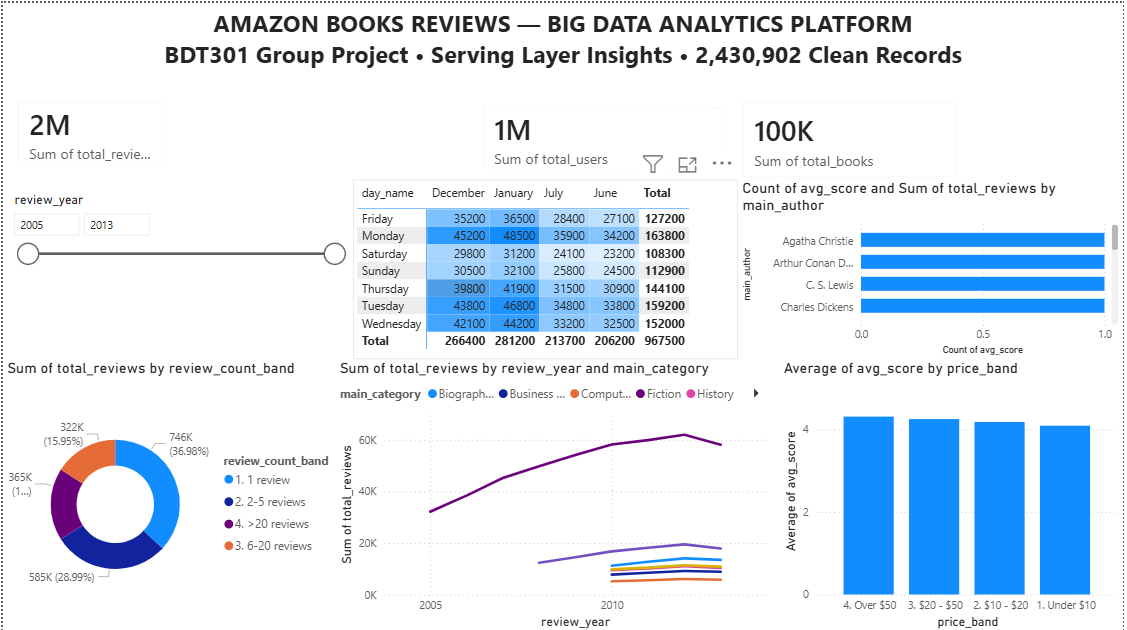

The dashboard page shown, as its layout file describes it:
{"tool":"powerbi","page":{"name":"Page 1","canvas":[1280,720],"ordinal":0},"visuals":[{"type":"donutChart","fields":{"Category":["public agg_reviewer_segment.review_count_band"],"Y":["Sum(public agg_reviewer_segment.total_reviews)"]},"box":[0,496.7,380.1,223.7],"z":0},{"type":"columnChart","fields":{"Category":["public agg_price_band.price_band"],"Y":["Avg(public agg_price_band.avg_score)"]},"box":[887.1,407.1,392.9,312.9],"z":1000},{"type":"lineChart","fields":{"Category":["public agg_category_year.review_year"],"Y":["Sum(public agg_category_year.total_reviews)"],"Series":["public agg_category_year.main_category"]},"box":[380,407.1,500,312.9],"z":2000},{"type":"textbox","box":[0,0,1280.3,86.4],"z":3000},{"type":"cardVisual","fields":{"Data":["Sum(public agg_reviewer_segment.total_reviews)"]},"box":[0,95,203.3,105],"z":4000},{"type":"cardVisual","fields":{"Data":["Sum(public agg_reviewer_segment.total_users)"]},"box":[531.7,101.7,308.3,105],"z":5000},{"type":"cardVisual","fields":{"Data":["Sum(public agg_category_year.total_books)"]},"box":[828.6,95.7,278.6,120],"z":6000},{"type":"clusteredBarChart","fields":{"Category":["public agg_author.main_author"],"Y":["CountNonNull(public agg_author.avg_score)"]},"box":[840,201.4,440,205.7],"z":7000},{"type":"pivotTable","fields":{"Rows":["public agg_activity_heatmap.day_name"],"Columns":["public agg_activity_heatmap.month_name"],"Values":["Sum(public agg_activity_heatmap.total_reviews)"]},"box":[400,201.4,440,205.7],"z":8000},{"type":"clusteredColumnChart","fields":{"Category":["public agg_reviewer_segment.review_count_band"],"Y":["Sum(public agg_reviewer_segment.avg_helpful_votes)"]},"box":[0,200.3,380.1,279.9],"z":9000}]}

Visuals, with their boxes in screenshot pixels (x1, y1, x2, y2), scaled from the page's 1280x720 canvas onto the 1127x630 screenshot:
donutChart - public agg_reviewer_segment.review_count_band x Sum(public agg_reviewer_segment.total_reviews): [left=0, top=435, right=335, bottom=629]
columnChart - public agg_price_band.price_band x Avg(public agg_price_band.avg_score): [left=781, top=356, right=1126, bottom=629]
lineChart - public agg_category_year.review_year x Sum(public agg_category_year.total_reviews): [left=335, top=356, right=775, bottom=629]
textbox: [left=0, top=0, right=1126, bottom=76]
cardVisual - Sum(public agg_reviewer_segment.total_reviews): [left=0, top=83, right=179, bottom=175]
cardVisual - Sum(public agg_reviewer_segment.total_users): [left=468, top=89, right=740, bottom=181]
cardVisual - Sum(public agg_category_year.total_books): [left=730, top=84, right=975, bottom=189]
clusteredBarChart - public agg_author.main_author x CountNonNull(public agg_author.avg_score): [left=740, top=176, right=1126, bottom=356]
pivotTable - public agg_activity_heatmap.day_name x public agg_activity_heatmap.month_name: [left=352, top=176, right=740, bottom=356]
clusteredColumnChart - public agg_reviewer_segment.review_count_band x Sum(public agg_reviewer_segment.avg_helpful_votes): [left=0, top=175, right=335, bottom=420]
